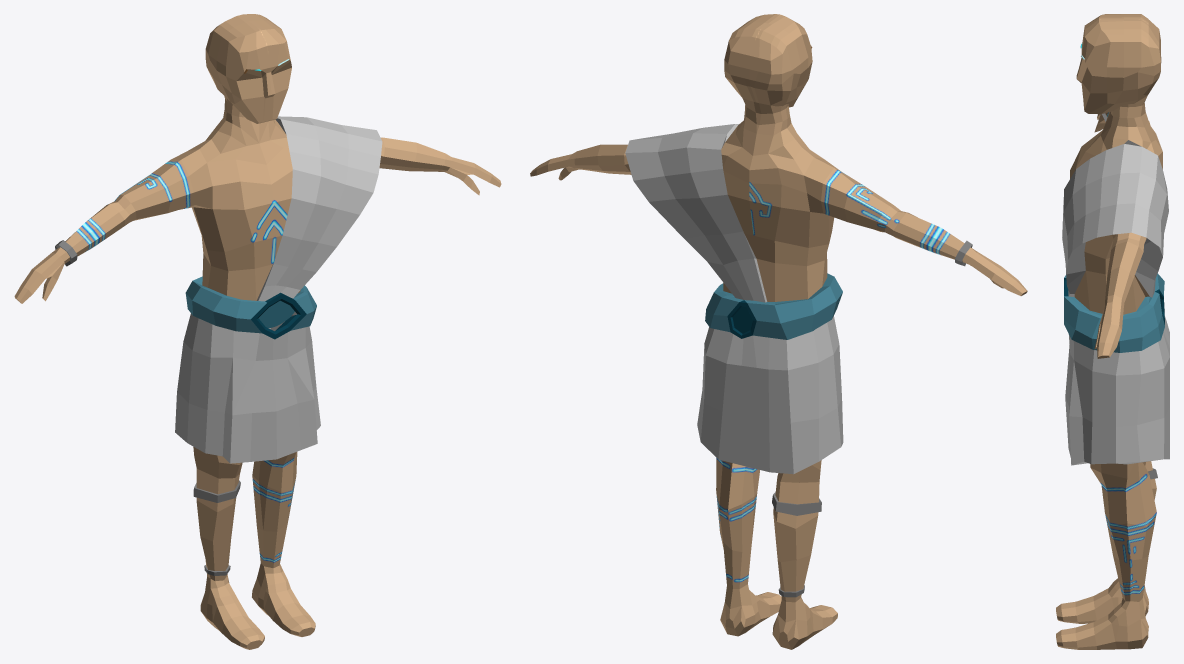
File: Prometeo.obj
3 views of the same model, side by side, from view 1: azimuth 30°, elevation 25°; view 2: azimuth 150°, elevation 25°; view 3: azimuth 270°, elevation 25° (orthographic). The views are drawn at different scales.
Parts seen in each view (by area): view 1: Cube.006; view 2: Cube.006; view 3: Cube.006.
Part boxes in pixels (x1=…): Cube.006: x1=14, y1=14, x2=501, y2=649; Cube.006: x1=530, y1=14, x2=1027, y2=649; Cube.006: x1=1056, y1=14, x2=1169, y2=649.
Bounding box in the file's own units: 1.69 × 2 × 0.336.
